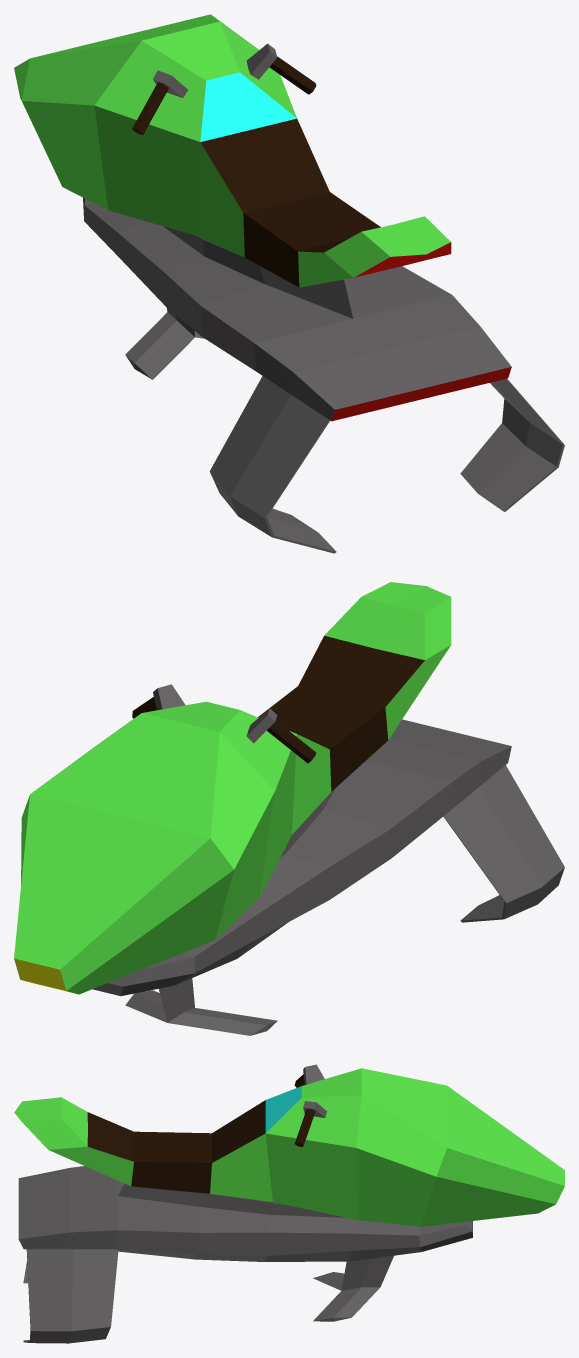
Rendered from Jetski Green 1.fbx.
The picture shows the model from 3 angles, top to bottom: view 1: azimuth 30°, elevation 25°; view 2: azimuth 150°, elevation 25°; view 3: azimuth 270°, elevation 25°; orthographic projection. The views are drawn at different scales.
Parts seen in each view (by area): view 1: body; view 2: body; view 3: body.
Part boxes in pixels (left/top/right/bottom): body: left=14, top=14, right=564, bottom=553; body: left=14, top=582, right=564, bottom=1035; body: left=14, top=1064, right=564, bottom=1343.
Size of the model in its own units: 56.55 by 56.53 by 122.
